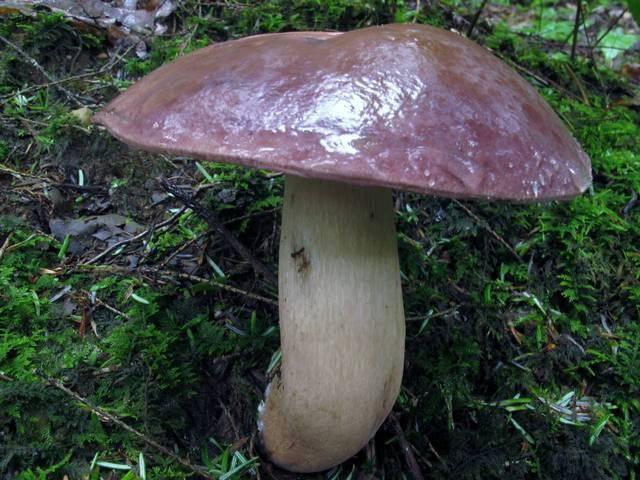Non-edible Mushroom: (88, 21, 594, 473)
